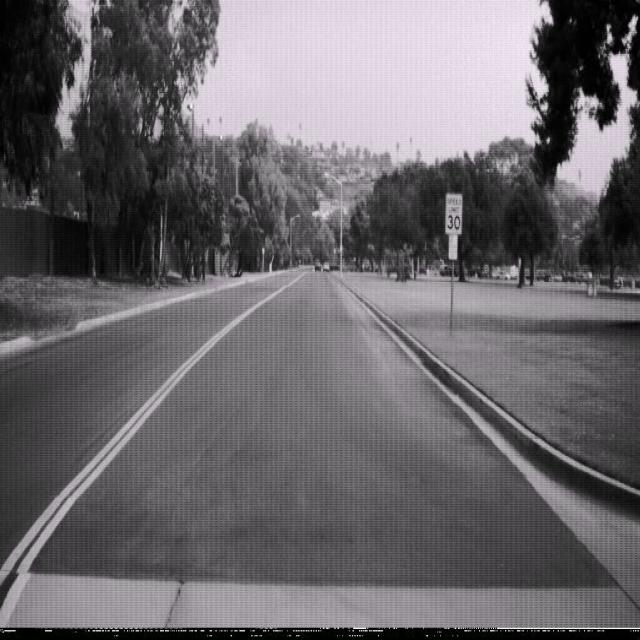speedLimit30: (443, 190, 462, 235)
